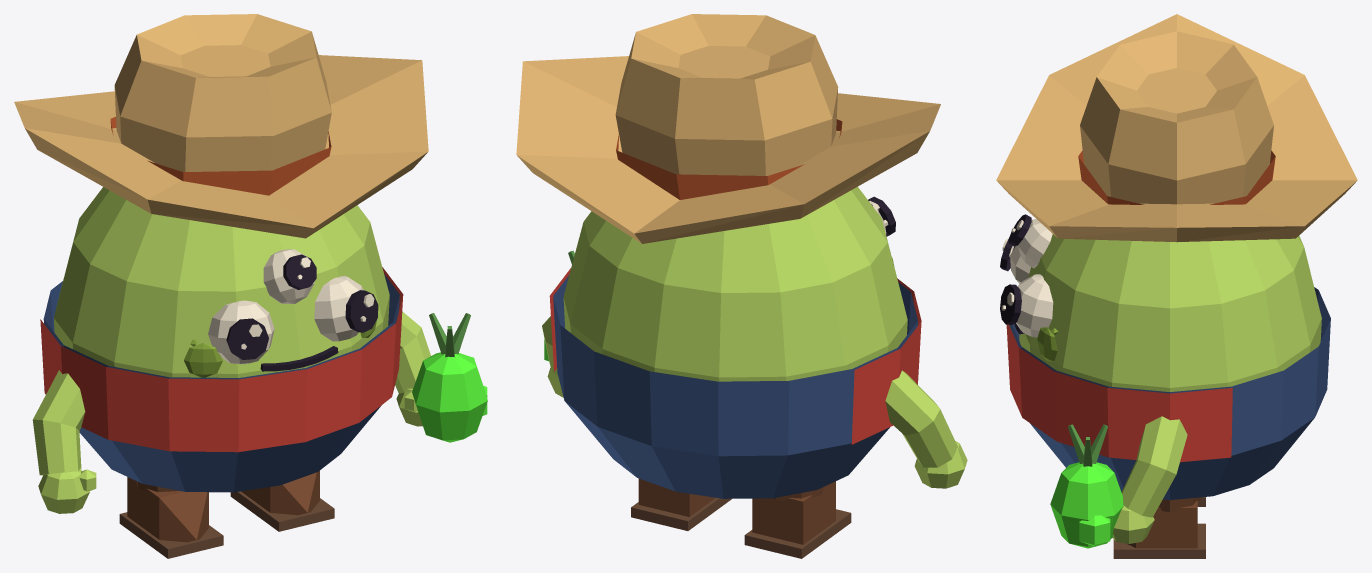
Rendered from Char_Native_Farmer.obj.
3 renders of one model, left to right at view 1: azimuth 30°, elevation 25°; view 2: azimuth 150°, elevation 25°; view 3: azimuth 270°, elevation 25°, orthographic. The views are drawn at different scales.
Visible parts, largest first — view 1: Char_Native_Farmer_Body, Char_Native_Farmer_Head, Char_Native_Farmer_Arm_L, Char_Native_Farmer_Arm_R, Char_Native_Farmer_Leg_R, Char_Native_Farmer_Leg_L; view 2: Char_Native_Farmer_Body, Char_Native_Farmer_Leg_R, Char_Native_Farmer_Arm_R, Char_Native_Farmer_Leg_L, Char_Native_Farmer_Arm_L; view 3: Char_Native_Farmer_Body, Char_Native_Farmer_Arm_L, Char_Native_Farmer_Head, Char_Native_Farmer_Leg_L.
Part boxes in pixels (bbox=[...]): Char_Native_Farmer_Body: bbox=[14, 14, 428, 492]; Char_Native_Farmer_Head: bbox=[184, 249, 378, 377]; Char_Native_Farmer_Arm_L: bbox=[395, 311, 487, 442]; Char_Native_Farmer_Arm_R: bbox=[32, 370, 96, 513]; Char_Native_Farmer_Leg_R: bbox=[119, 477, 223, 558]; Char_Native_Farmer_Leg_L: bbox=[230, 470, 334, 531]; Char_Native_Farmer_Body: bbox=[516, 14, 940, 498]; Char_Native_Farmer_Leg_R: bbox=[744, 481, 851, 558]; Char_Native_Farmer_Arm_R: bbox=[885, 370, 967, 488]; Char_Native_Farmer_Leg_L: bbox=[631, 478, 731, 530]; Char_Native_Farmer_Arm_L: bbox=[542, 250, 574, 397]; Char_Native_Farmer_Body: bbox=[996, 14, 1357, 499]; Char_Native_Farmer_Arm_L: bbox=[1050, 416, 1187, 548]; Char_Native_Farmer_Head: bbox=[1000, 214, 1058, 361]; Char_Native_Farmer_Leg_L: bbox=[1113, 497, 1205, 558].
Bounding box in the file's own units: 1.38 × 1.46 × 1.06.
